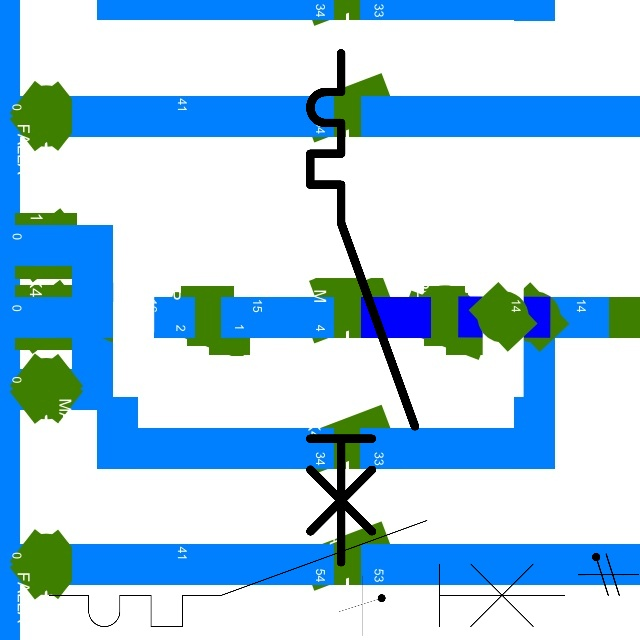interruptor_termomagnetico: (36, 507, 578, 640), (297, 40, 428, 576)
